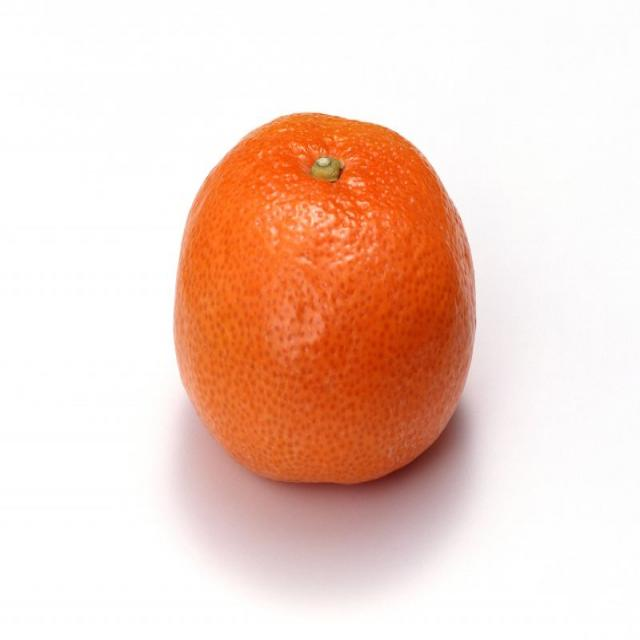Orange: (169, 113, 481, 499)
